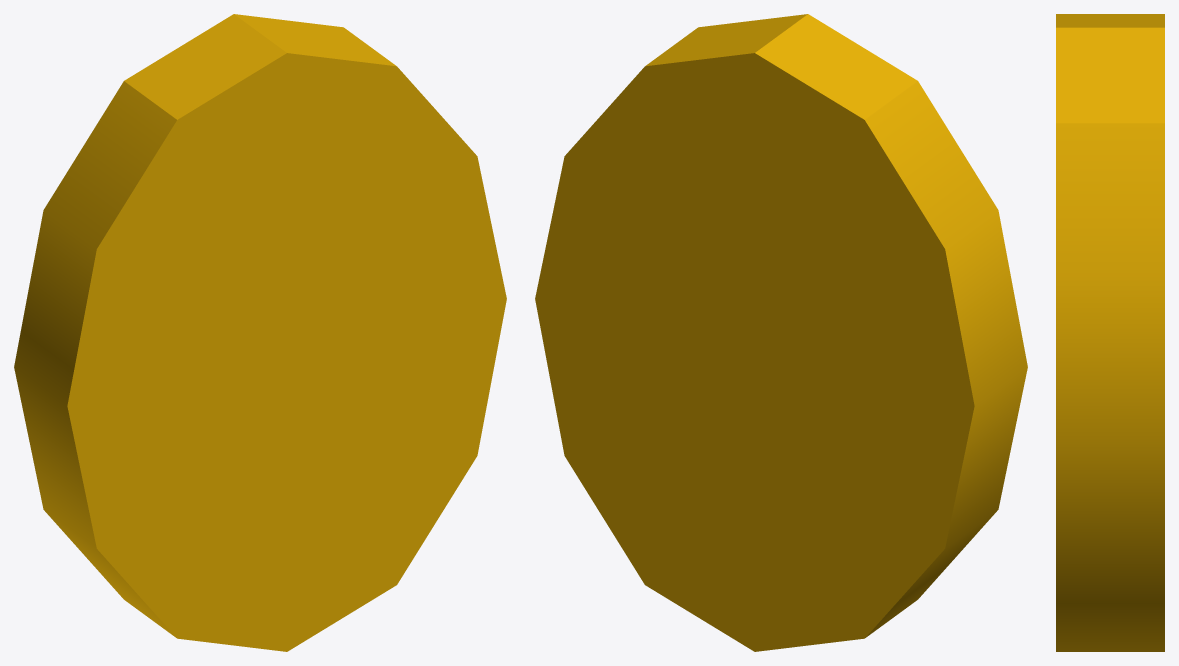
The model's file is coin01.fbx.
The picture shows the model from 3 angles, left to right: view 1: azimuth 30°, elevation 25°; view 2: azimuth 150°, elevation 25°; view 3: azimuth 270°, elevation 25°; orthographic projection.
Parts seen in each view (by area): view 1: Cylinder; view 2: Cylinder; view 3: Cylinder.
Boxes of the visible parts, x1=… form: Cylinder: x1=14, y1=14, x2=506, y2=651; Cylinder: x1=535, y1=14, x2=1027, y2=651; Cylinder: x1=1056, y1=14, x2=1164, y2=651.
Size of the model in its own units: 200 by 260 by 42.03.
